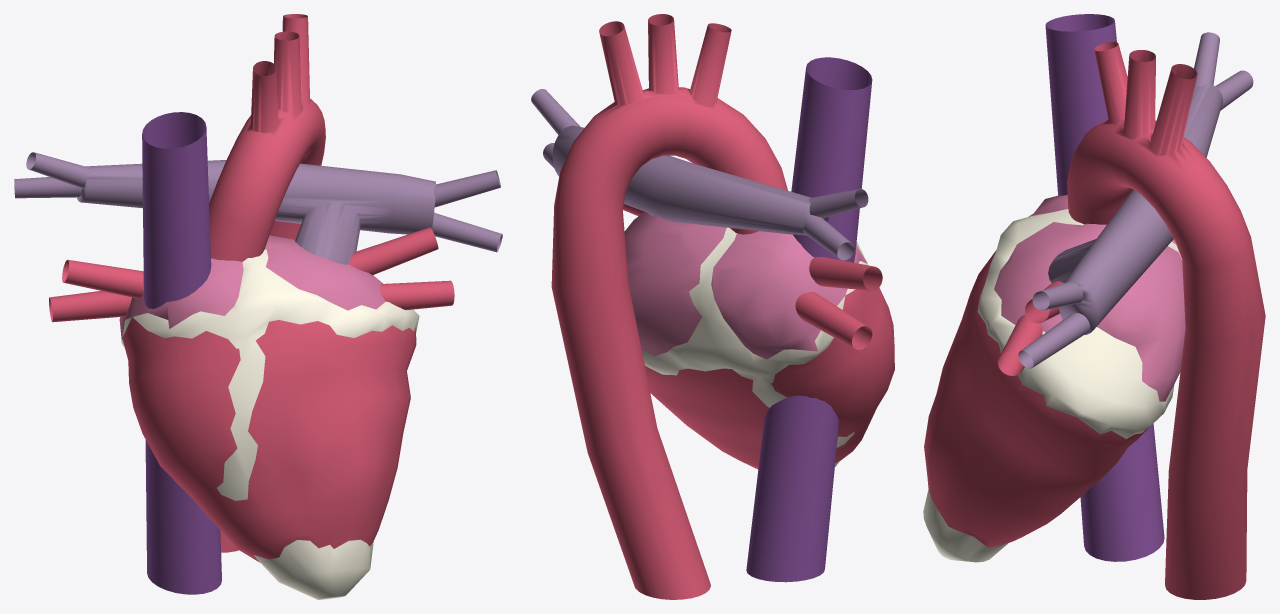
The model's file is 3d-edutex-human-heart.glb.
3 views of the same model, side by side, from view 1: azimuth 30°, elevation 25°; view 2: azimuth 150°, elevation 25°; view 3: azimuth 270°, elevation 25° (orthographic). The views are drawn at different scales.
Visible parts, largest first — view 1: Mesh1_Cladding_Siding_White_0; view 2: Mesh1_Cladding_Siding_White_0; view 3: Mesh1_Cladding_Siding_White_0.
Part boxes in pixels (x1,y1,x2,y2): Mesh1_Cladding_Siding_White_0: (14, 14, 502, 599); Mesh1_Cladding_Siding_White_0: (531, 14, 894, 599); Mesh1_Cladding_Siding_White_0: (923, 14, 1265, 599).
Size of the model in its own units: 0.0416 by 0.0514 by 0.0289.
1 material, 1 textured.
